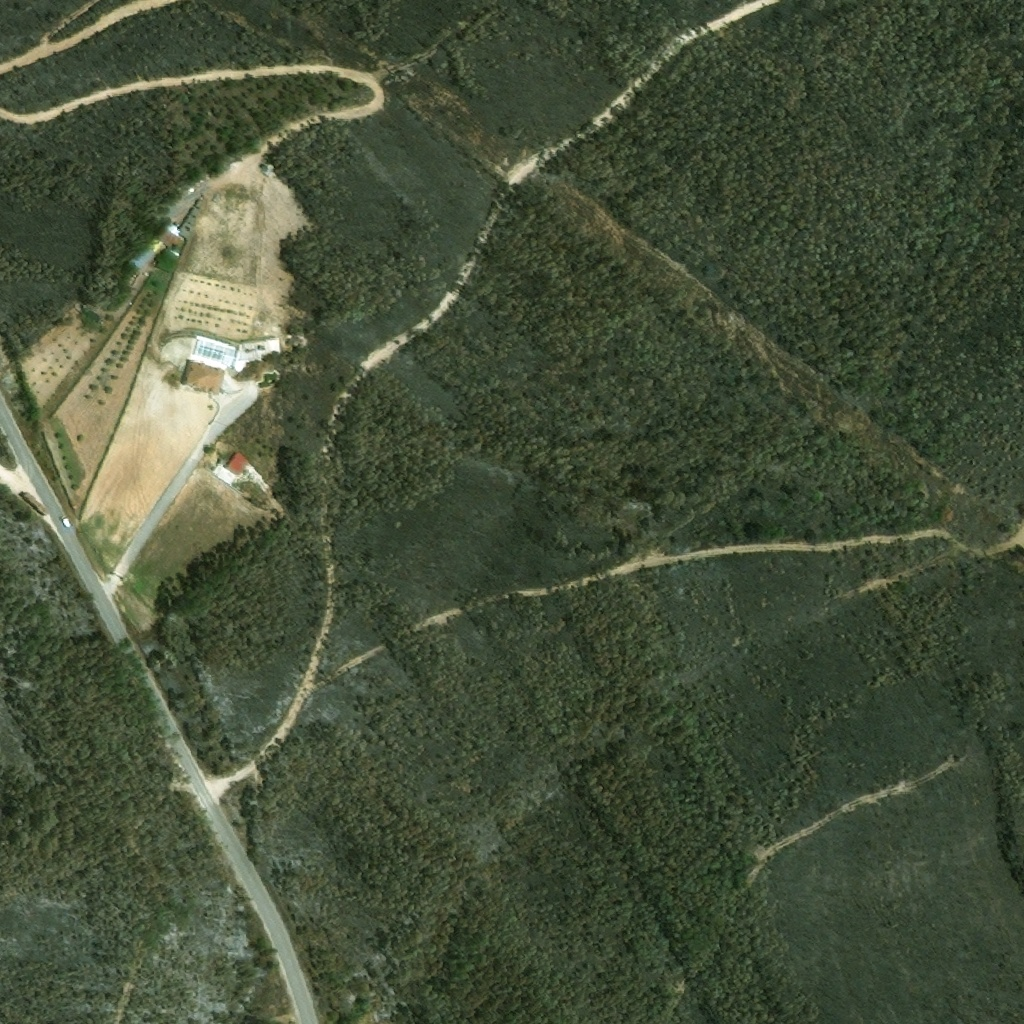0 no-damage: (126, 225, 186, 273), (183, 360, 226, 395), (178, 200, 201, 240), (224, 452, 248, 476)
